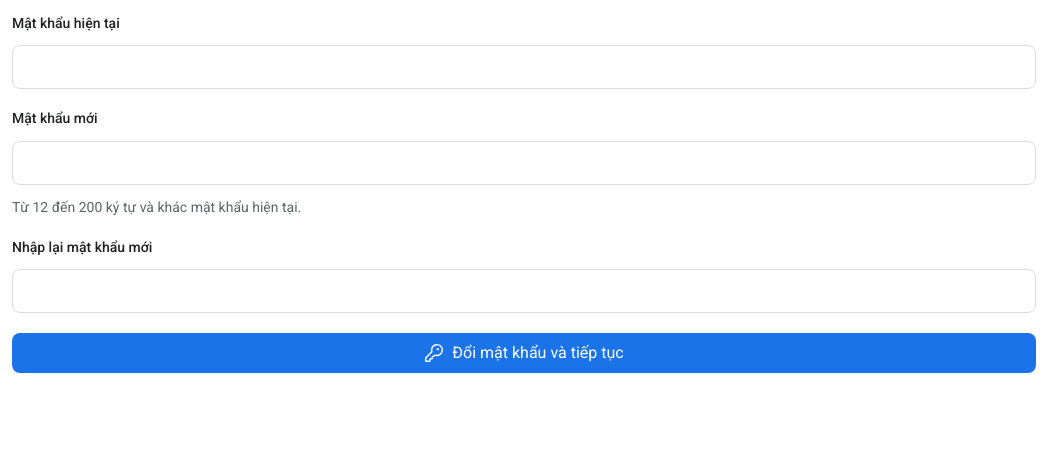
Test: mandatory password change › keeps a focused correction path for a wrong current password
The width and height of the screenshot is (1048, 474).
Type "Current-password-2026!" into the password field labelled "Mật khẩu hiện tại" at [524, 67], box 12,45 -> 1036,89
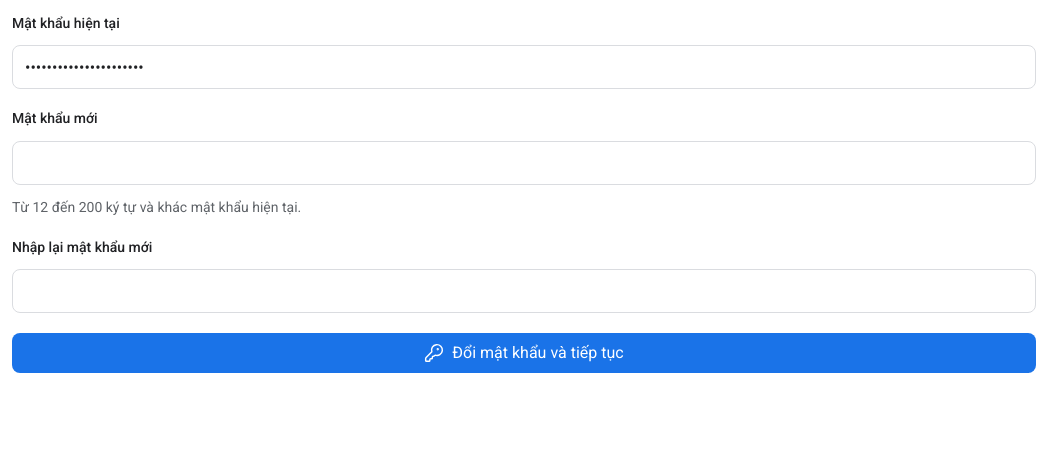
Type "New-password-2026!" into the password field labelled "Mật khẩu mới" at [524, 162], box 12,140 -> 1036,184
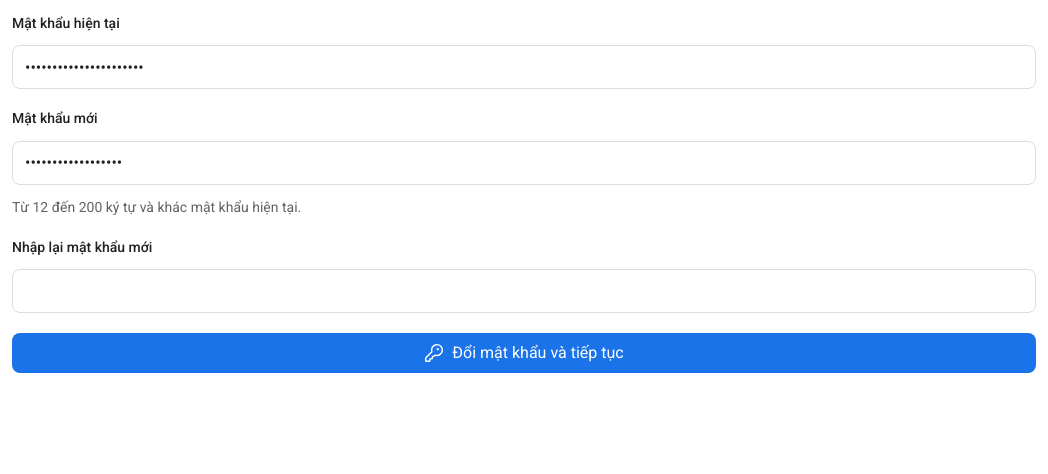
Type "New-password-2026!" into the password field labelled "Nhập lại mật khẩu mới" at [524, 291], box 12,269 -> 1036,313
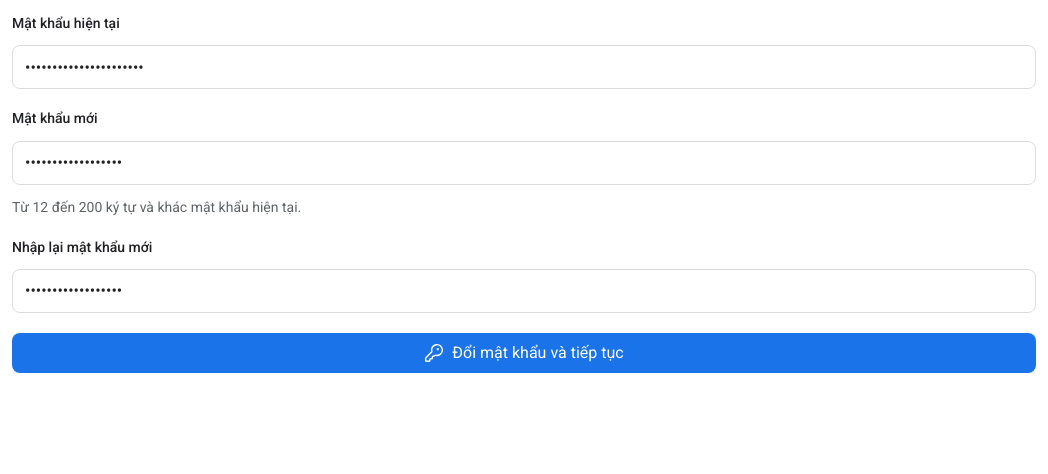
Click the button "Đổi mật khẩu và tiếp tục" at [524, 353], box 12,333 -> 1036,373
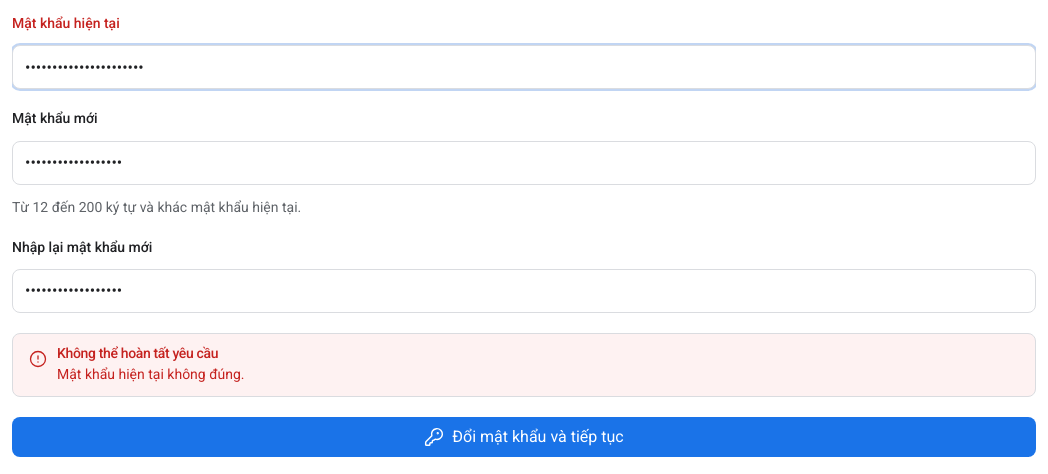
expect the button "Đổi mật khẩu và tiếp tục" is enabled: met, box 12,417 -> 1036,457
expect the message shows "Mật khẩu hiện tại không đúng": met, box 57,366 -> 244,382
